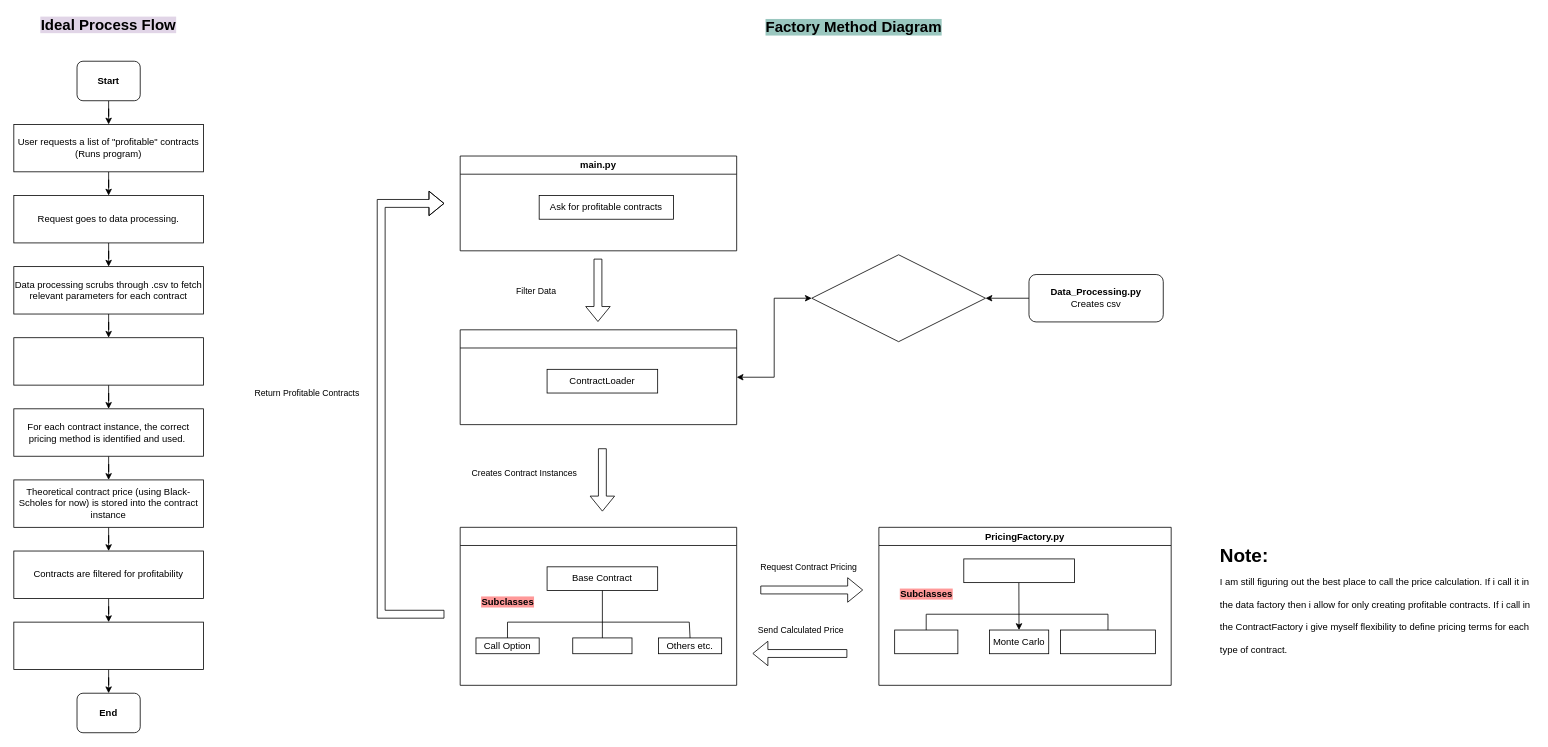
This 1548x747 diagram has some shape labels left out. Each missing label, with the box of its shape:
Black Scholes: (894, 629, 958, 654)
contract_data.csv used as a proxy for a database: (811, 254, 986, 342)
ContractFactory.py: (459, 527, 737, 685)
Contracts are outputted to the user: (13, 621, 203, 670)
DataFactory.py: (459, 329, 737, 425)
Ect. (Binomial or future methods): (1060, 629, 1155, 654)
Instances of the Contract Class are created with the relevant info.: (13, 337, 203, 385)
Put Option: (572, 637, 632, 654)
Select Pricing Model: (963, 558, 1074, 583)
